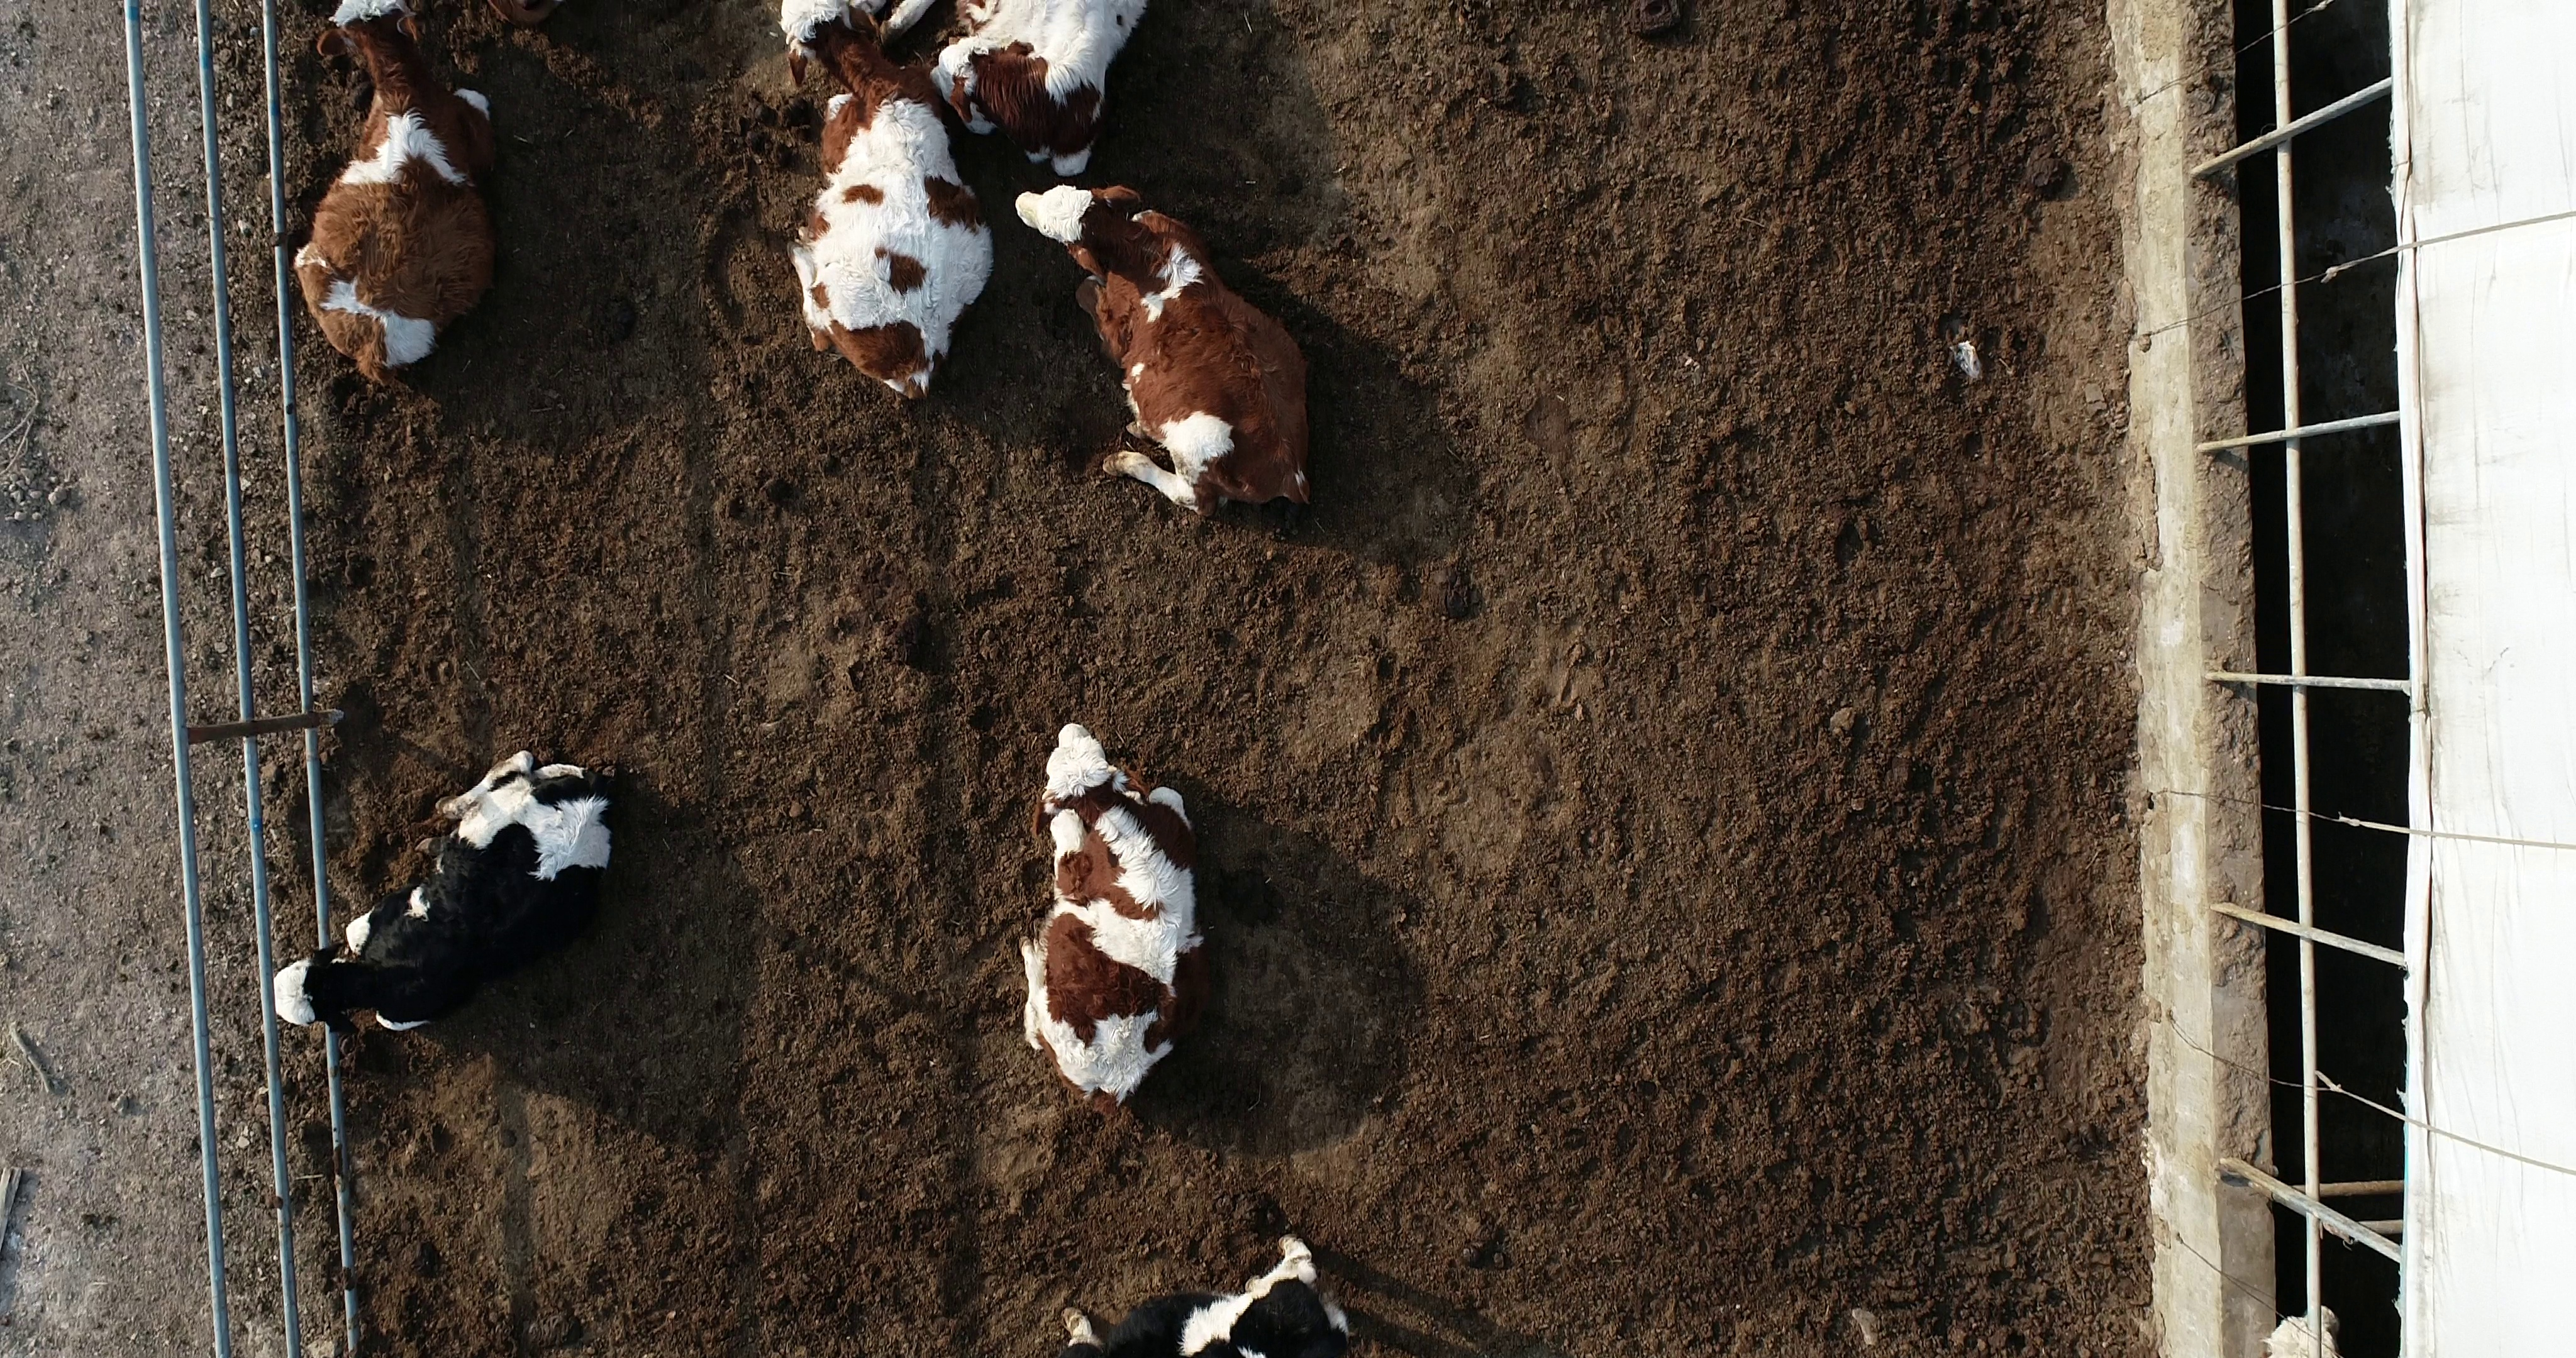cattle: (269, 741, 627, 1041), (1009, 184, 1317, 525), (1010, 719, 1218, 1125)
